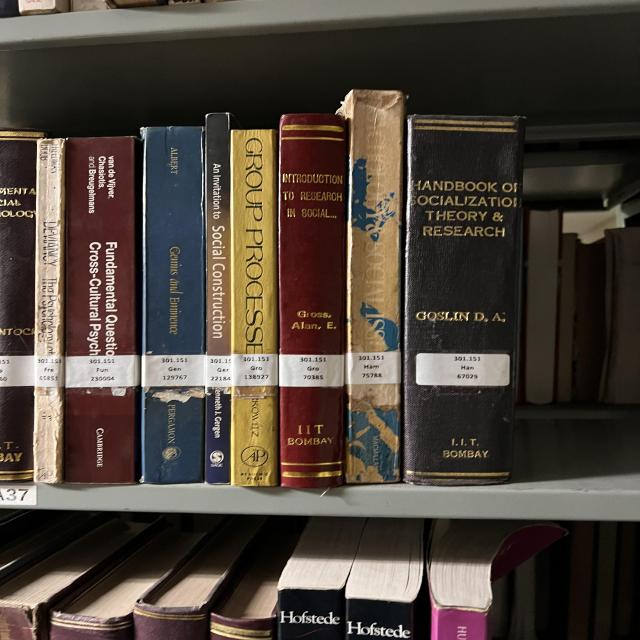Book: (403, 115, 523, 485), (338, 90, 405, 484), (65, 136, 140, 482), (278, 114, 347, 488), (142, 126, 205, 484), (230, 129, 278, 486), (0, 130, 45, 481), (205, 112, 235, 484), (33, 139, 65, 484)
Label: (415, 352, 510, 386), (65, 355, 140, 388), (278, 354, 345, 388), (142, 355, 205, 386), (347, 351, 400, 385), (232, 354, 278, 386), (0, 355, 35, 386), (35, 356, 63, 388), (205, 355, 232, 388)
